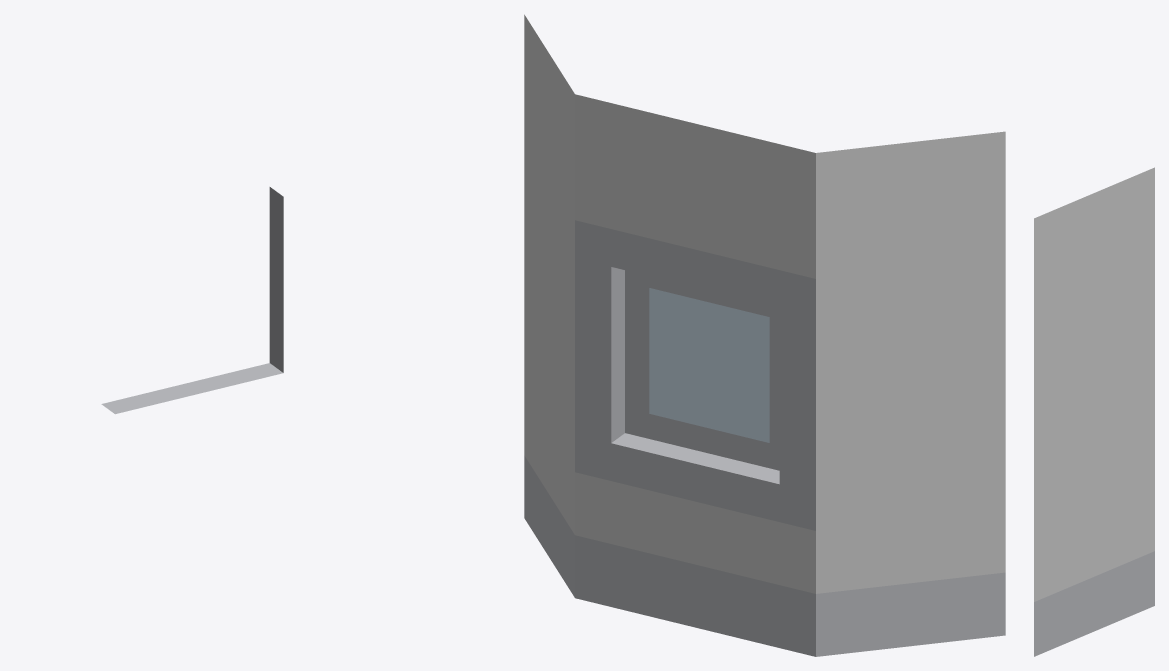
Rendered from wall_windowF.glb.
3 views of the same model, side by side, from view 1: azimuth 30°, elevation 25°; view 2: azimuth 150°, elevation 25°; view 3: azimuth 270°, elevation 25° (orthographic). The views are drawn at different scales.
Visible parts, largest first — view 1: wall_windowF; view 2: wall_windowF; view 3: wall_windowF.
Boxes of the visible parts, x1,y1,x2,y2 form: wall_windowF: (101, 187, 283, 414); wall_windowF: (524, 14, 1005, 656); wall_windowF: (1034, 167, 1154, 656).
Size of the model in its own units: 3 by 3 by 0.7488.
